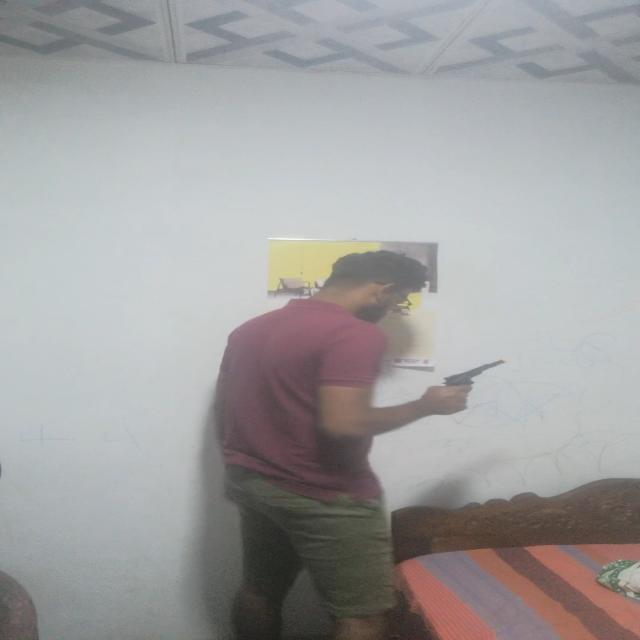Gun_Holder: (427, 358, 508, 413)
Person: (198, 252, 466, 629)
